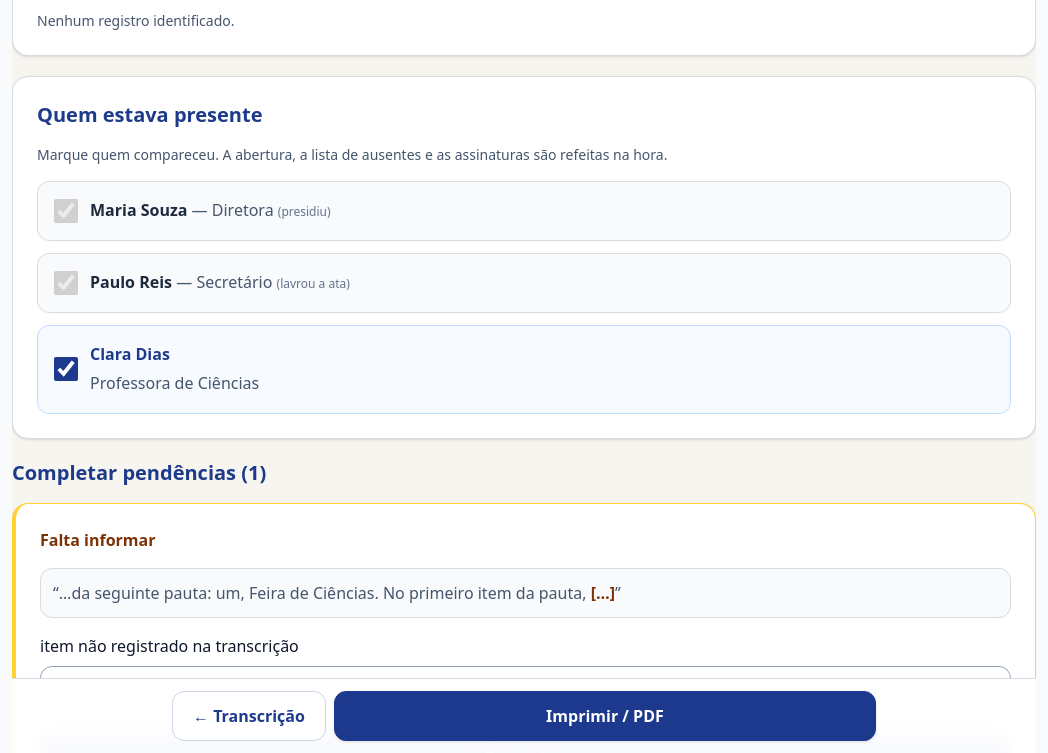
atualiza checkbox, texto e assinaturas antes de concluir a gravação da presença
(page scrolled)
IndexedDB continua pendente quando o navegador verifica o checkbox controlado.
Click the checkbox labelled "Clara Dias Professora de Ciências".
click(66, 369)  # box 54,357 -> 78,381
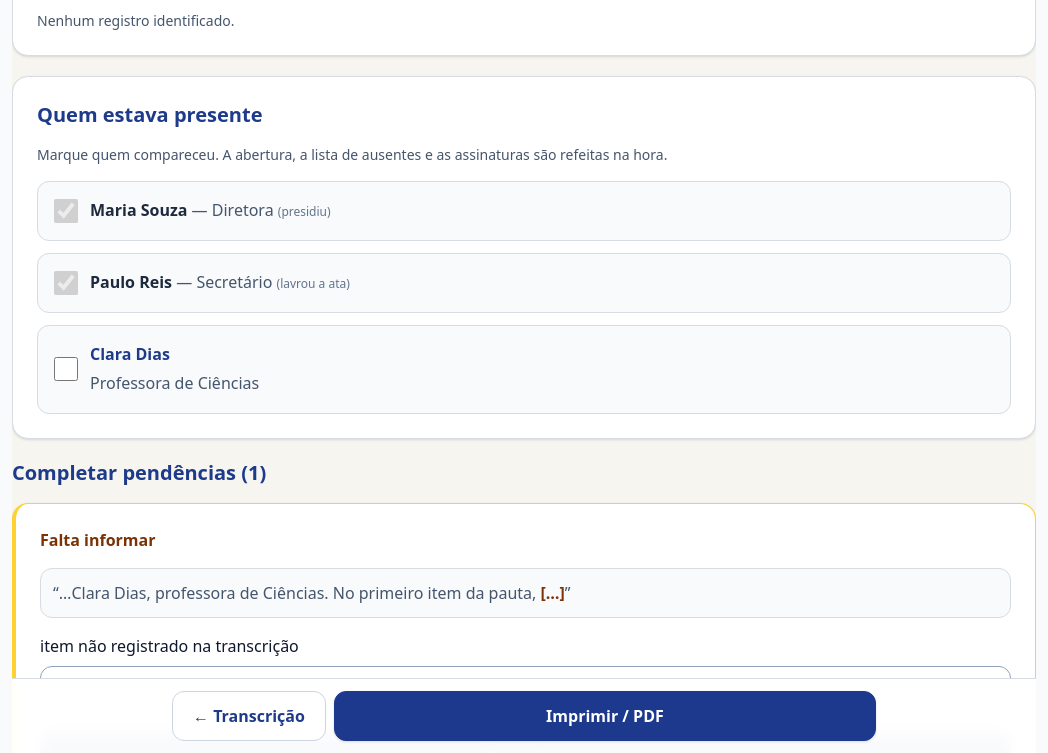
Expected: the text "Clara Dias" is not shown
Expected: the checkbox labelled "Clara Dias Professora de Ciências" is not checked
Click the checkbox labelled "Clara Dias Professora de Ciências".
click(66, 369)  # box 54,357 -> 78,381
(page scrolled)
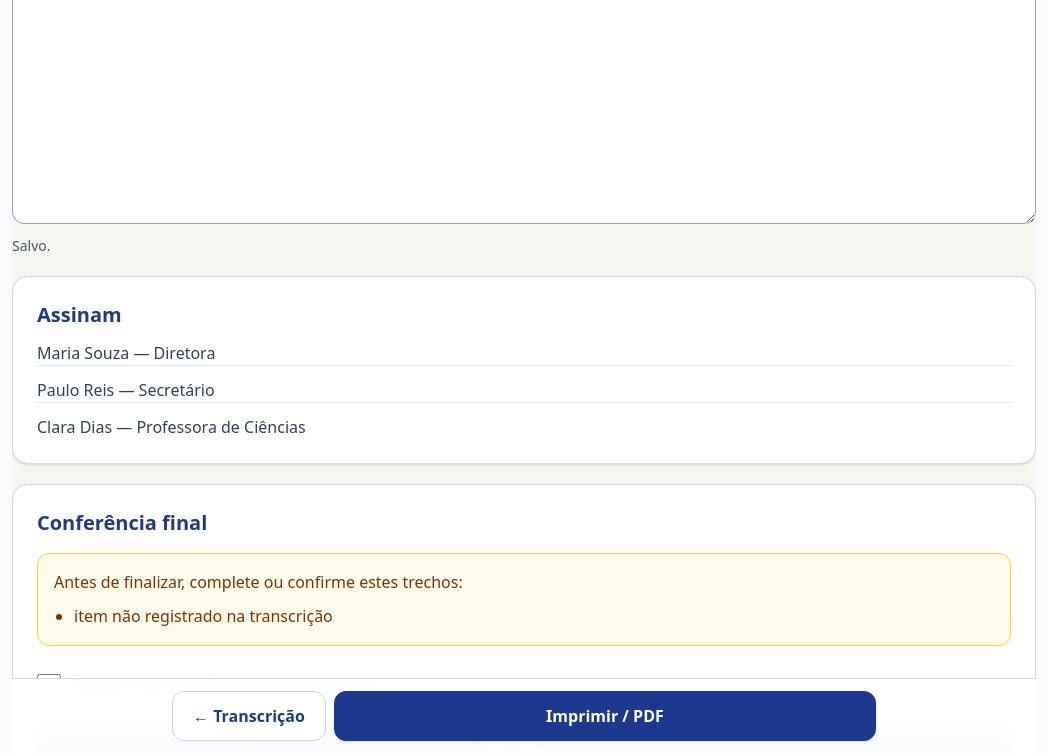
Expected: the element that starts with "Assinam" shows "Clara Dias", 37,416 -> 112,438
